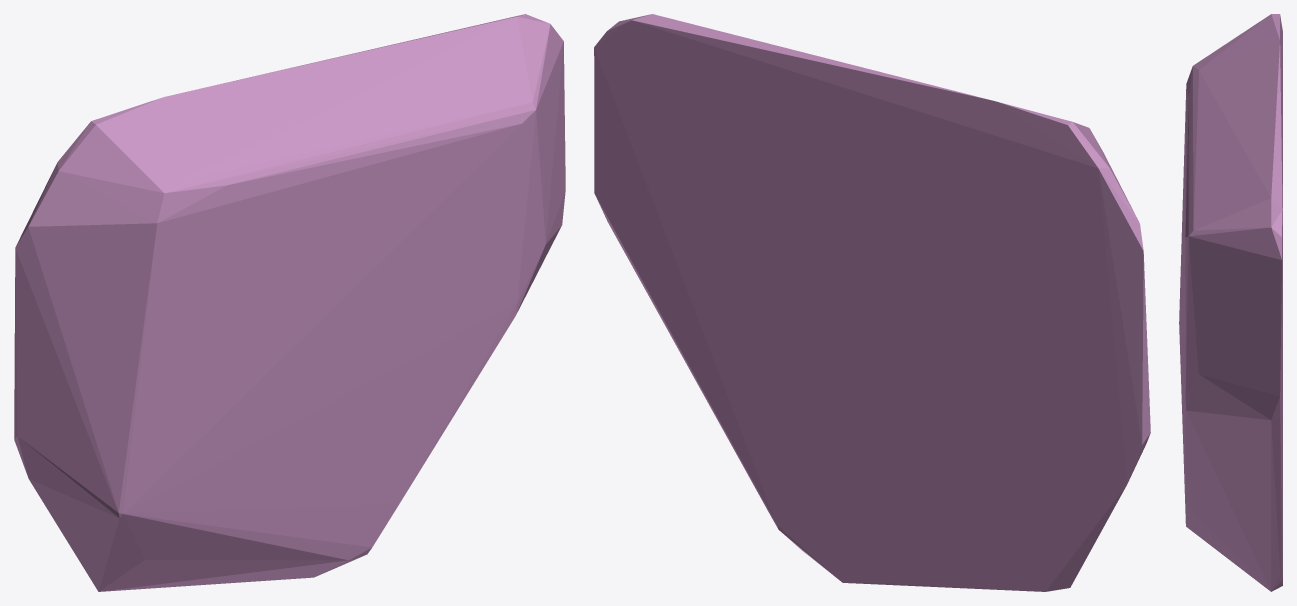
The model's file is engineComponent_engine_oil_pan_c01.glb.
The picture shows the model from 3 angles, left to right: view 1: azimuth 30°, elevation 25°; view 2: azimuth 150°, elevation 25°; view 3: azimuth 270°, elevation 25°; orthographic projection. The views are drawn at different scales.
Parts seen in each view (by area): view 1: geometry_0; view 2: geometry_0; view 3: geometry_0.
Part boxes in pixels (x1,y1,x2,y2): geometry_0: (14, 14, 565, 591); geometry_0: (594, 14, 1150, 591); geometry_0: (1179, 14, 1282, 591).
Size of the model in its own units: 0.4698 by 0.4211 by 0.083.
